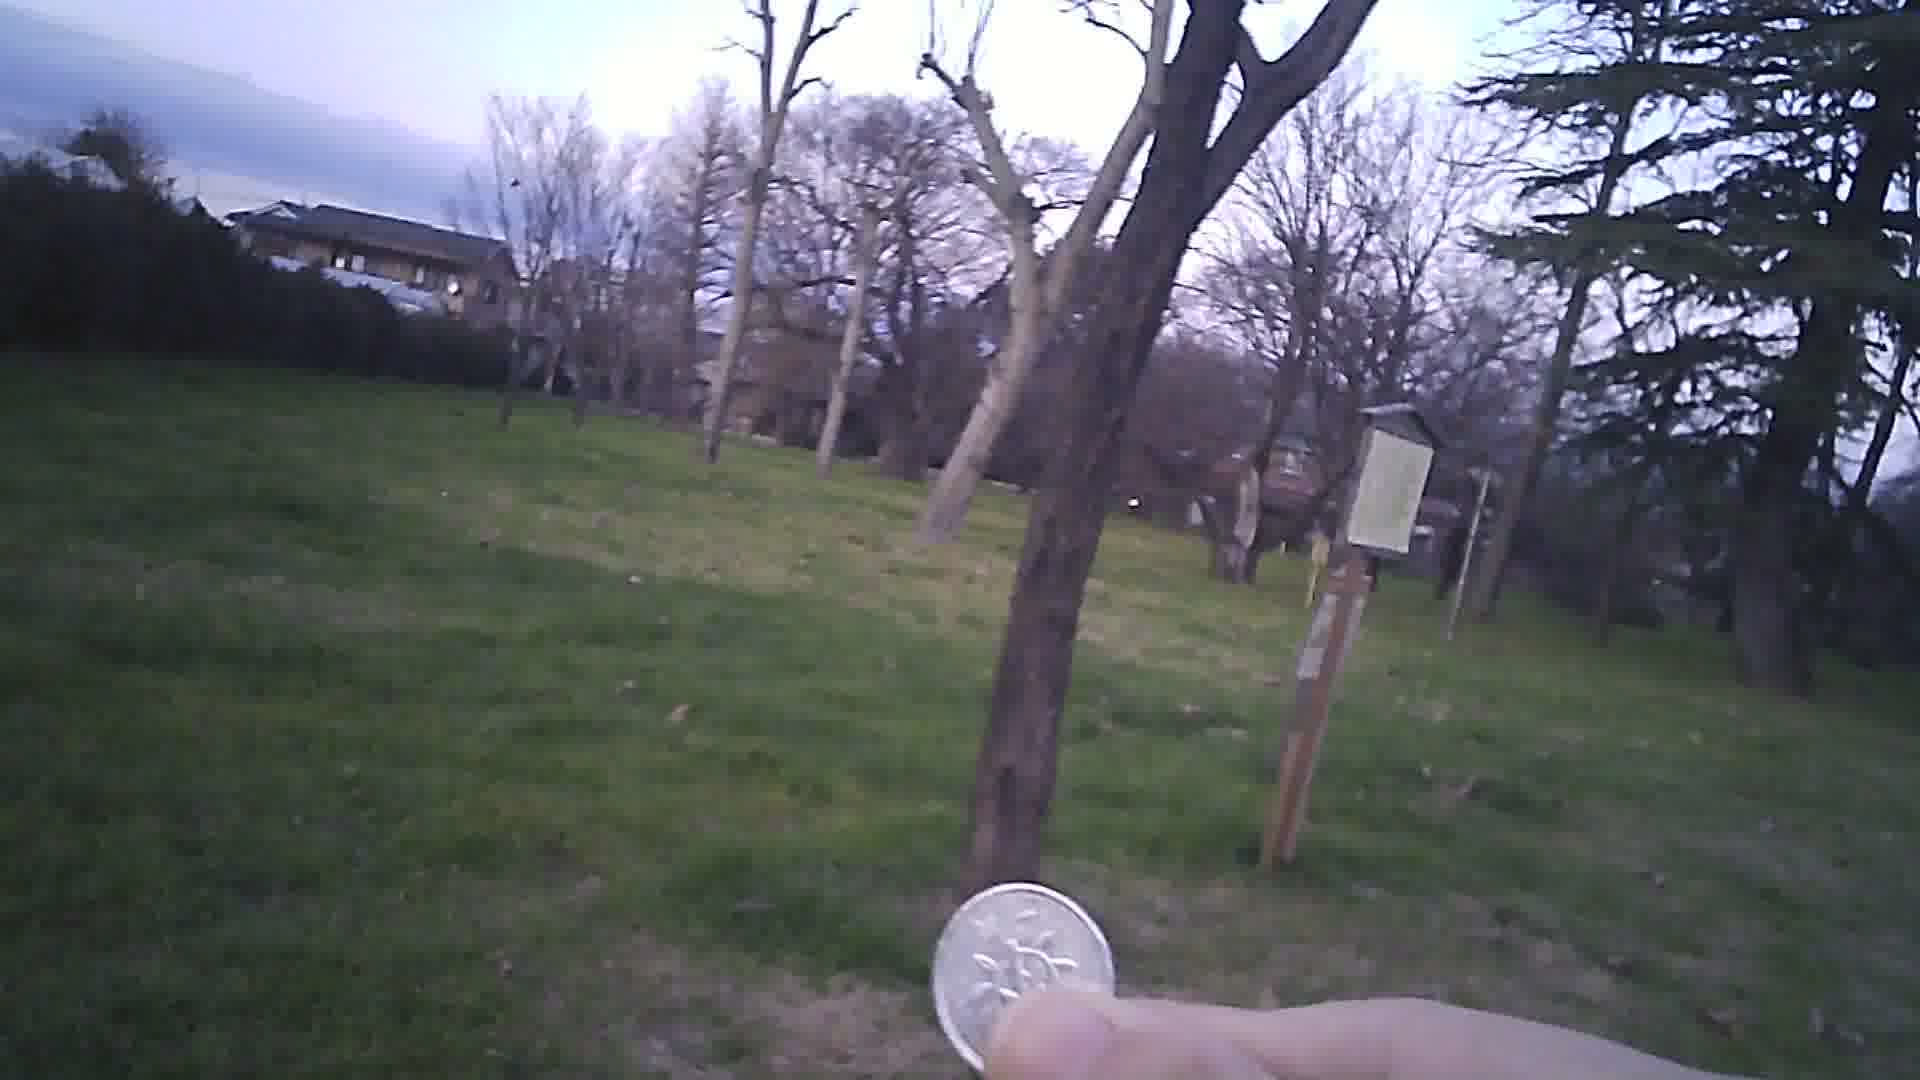1 Yen: (920, 876, 1127, 1071)
